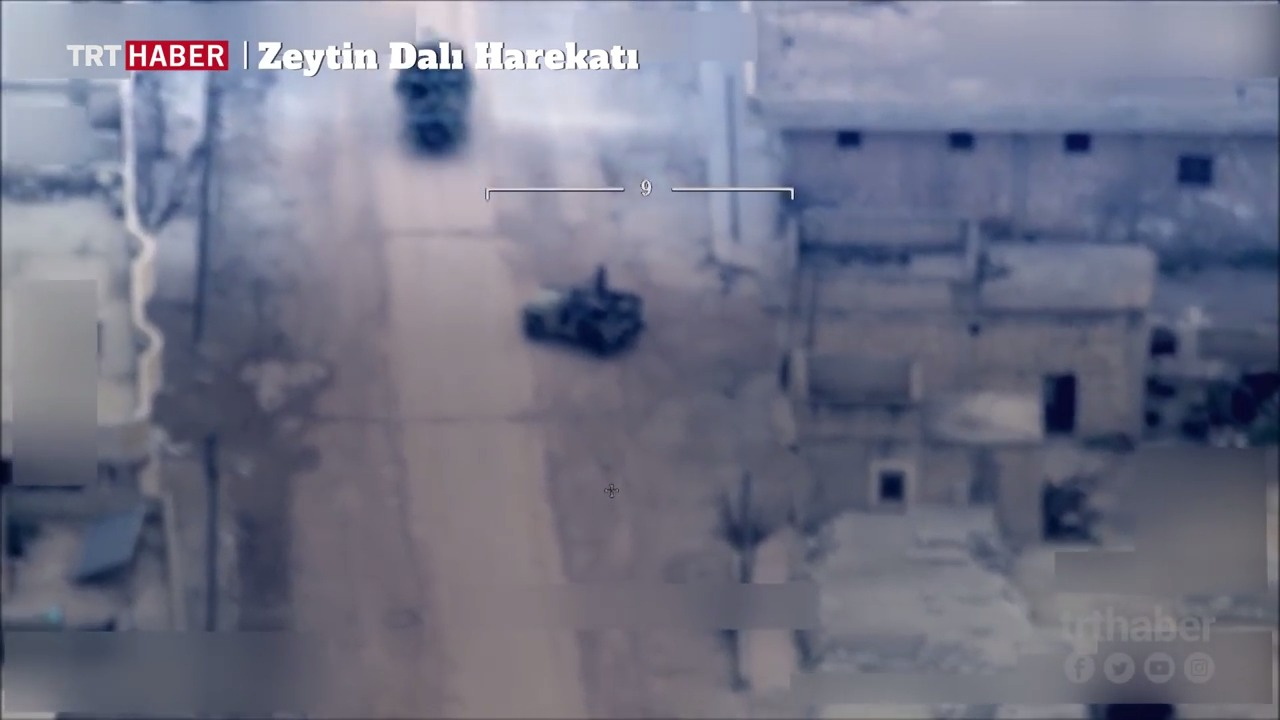arac: (395, 38, 473, 149), (520, 285, 645, 342)
bina: (784, 236, 1179, 456)
insan: (589, 258, 616, 285)
